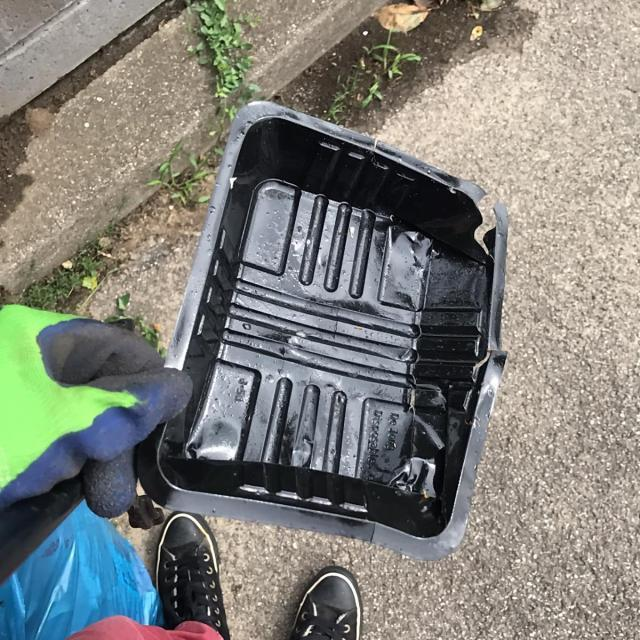Plastic: (132, 97, 510, 564)
